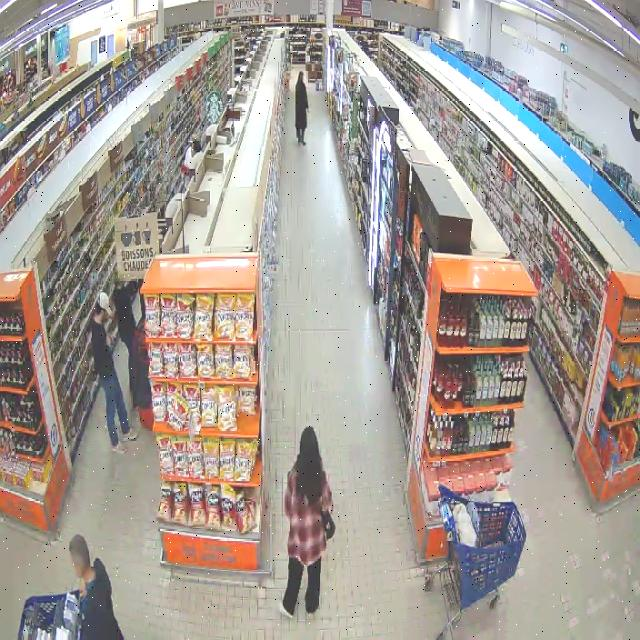bags: (321, 509, 335, 540)
hands: (80, 579, 86, 597), (107, 334, 114, 346)
person: (280, 427, 332, 617), (91, 293, 137, 453), (70, 535, 123, 639), (295, 72, 309, 145)
